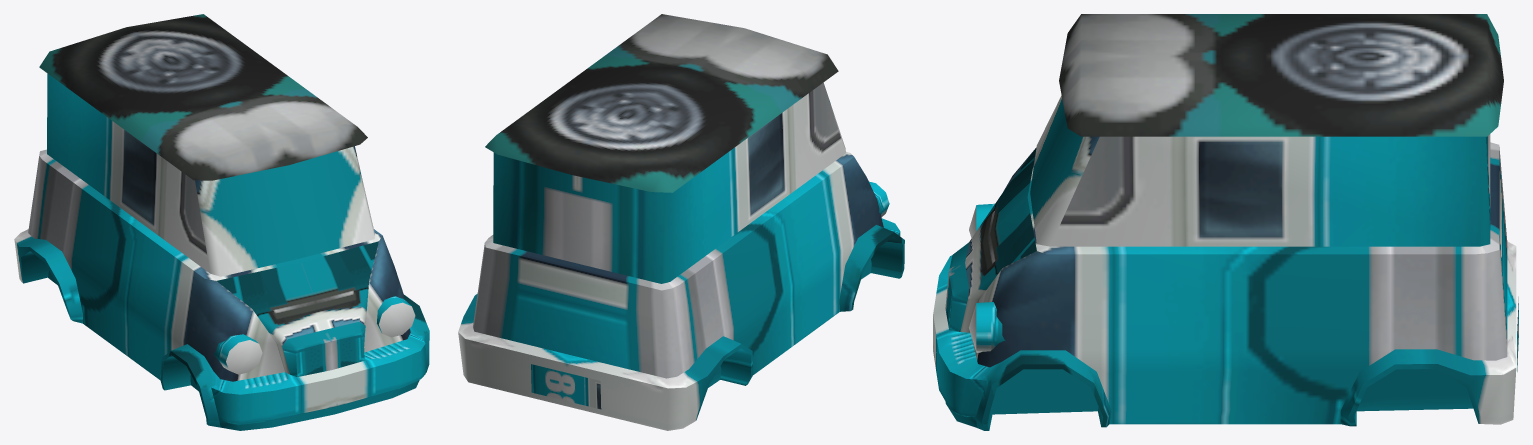
The model's file is car_mod.FBX.
3 views of the same model, side by side, from view 1: azimuth 30°, elevation 25°; view 2: azimuth 150°, elevation 25°; view 3: azimuth 270°, elevation 25° (orthographic). The views are drawn at different scales.
Visible parts, largest first — view 1: car_04_mod; view 2: car_04_mod; view 3: car_04_mod.
Boxes of the visible parts, box(x1,y1,x2,y2) form: car_04_mod: box(14, 14, 429, 430); car_04_mod: box(458, 14, 904, 430); car_04_mod: box(933, 14, 1518, 430).
Bounding box in the file's own units: 222 × 215 × 369.
